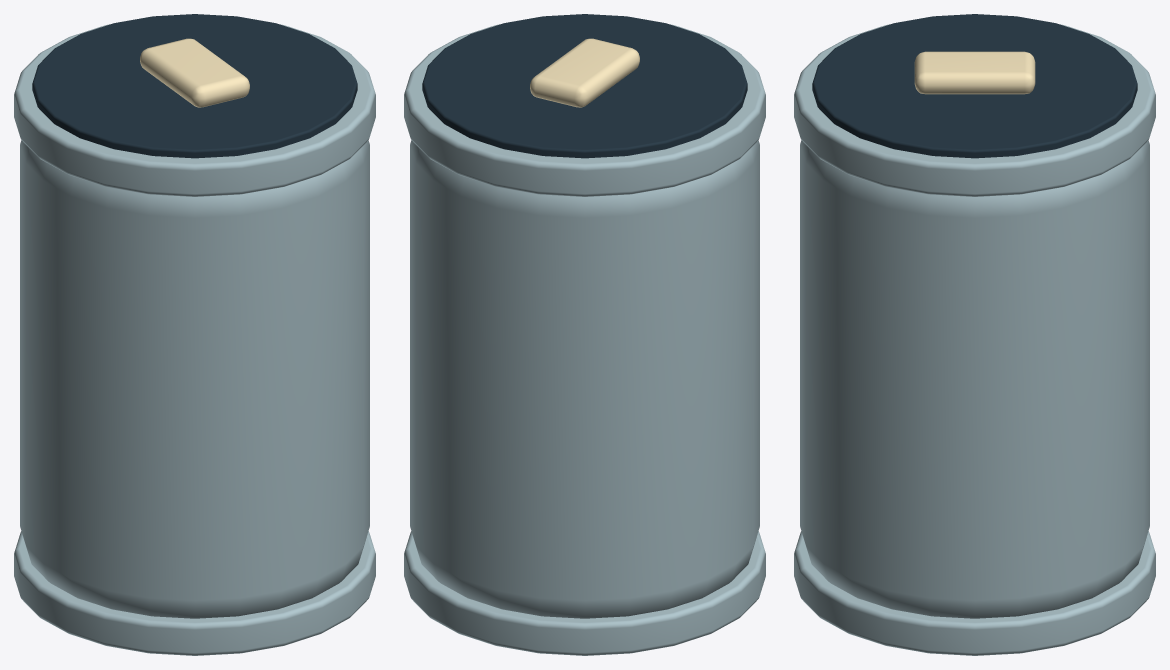
The model's file is empty_can.glb.
The picture shows the model from 3 angles, left to right: view 1: azimuth 30°, elevation 25°; view 2: azimuth 150°, elevation 25°; view 3: azimuth 270°, elevation 25°; orthographic projection.
Parts seen in each view (by area): view 1: Can body, Lid, Rim.001, Rim, Pull tab; view 2: Can body, Lid, Rim.001, Rim, Pull tab; view 3: Can body, Lid, Rim.001, Rim, Pull tab.
Part boxes in pixels (box(x1,y1,x2,y2)): Can body: box(20, 140, 369, 618); Lid: box(32, 14, 357, 158); Rim.001: box(14, 24, 375, 196); Rim: box(14, 531, 375, 655); Pull tab: box(140, 38, 249, 107); Can body: box(410, 140, 759, 618); Lid: box(422, 14, 747, 158); Rim.001: box(404, 24, 765, 196); Rim: box(404, 531, 765, 655); Pull tab: box(530, 38, 639, 107); Can body: box(800, 140, 1149, 618); Lid: box(812, 14, 1137, 158); Rim.001: box(794, 24, 1155, 196); Rim: box(794, 531, 1155, 655); Pull tab: box(914, 51, 1035, 94).
Bounding box in the file's own units: 0.3 × 0.475 × 0.3.
